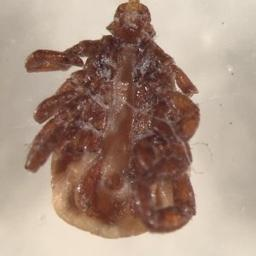Rhipicephalus sanguineus: (24, 0, 201, 241)
